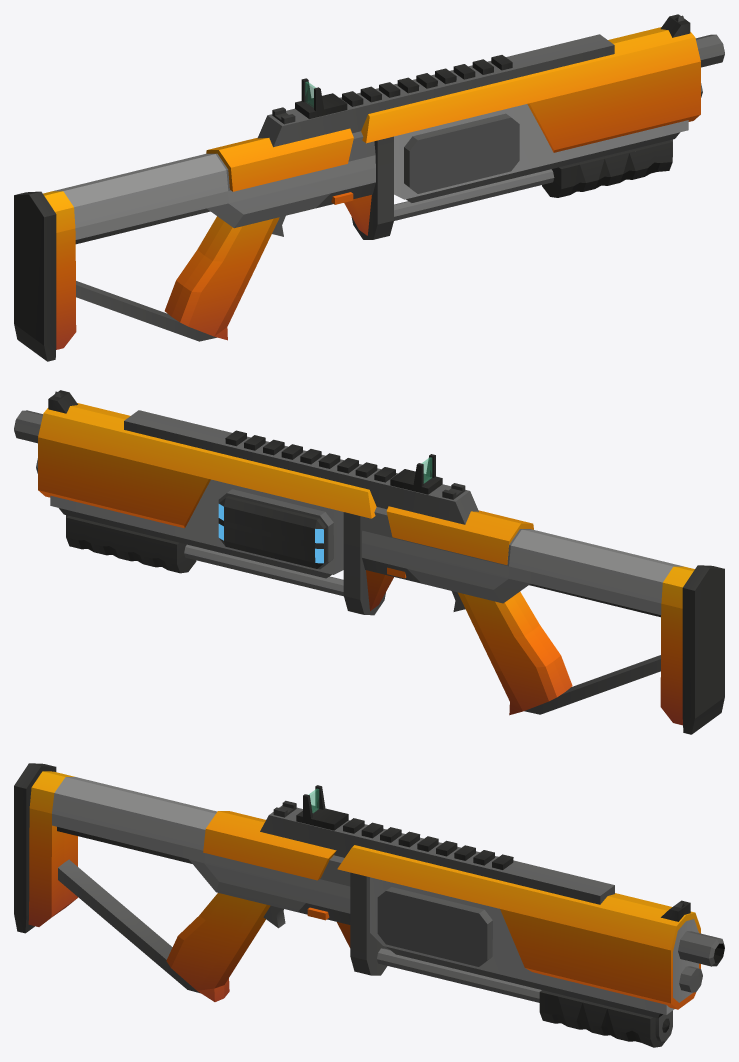
Rendered from Shotgun_mesh.fbx.
3 renders of one model, top to bottom at view 1: azimuth 30°, elevation 25°; view 2: azimuth 150°, elevation 25°; view 3: azimuth 330°, elevation 25°, orthographic.
Parts seen in each view (by area): view 1: Shotgun_mesh, Grip_mesh, ReflexA_mesh, ShotgunIronSights_mesh; view 2: Shotgun_mesh, Mag_M_mesh, Grip_mesh, ReflexA_mesh, ShotgunIronSights_mesh; view 3: Shotgun_mesh, Grip_mesh, ReflexA_mesh, ShotgunIronSights_mesh.
Part boxes in pixels (x1=…): Shotgun_mesh: x1=14, y1=27, x2=724, y2=361; Grip_mesh: x1=542, y1=140, x2=672, y2=197; ReflexA_mesh: x1=295, y1=78, x2=347, y2=118; ShotgunIronSights_mesh: x1=272, y1=14, x2=690, y2=124; Shotgun_mesh: x1=14, y1=403, x2=724, y2=734; Mag_M_mesh: x1=218, y1=496, x2=326, y2=568; Grip_mesh: x1=66, y1=516, x2=196, y2=573; ReflexA_mesh: x1=390, y1=454, x2=442, y2=494; ShotgunIronSights_mesh: x1=48, y1=390, x2=465, y2=499; Shotgun_mesh: x1=14, y1=763, x2=724, y2=1041; Grip_mesh: x1=539, y1=990, x2=665, y2=1047; ReflexA_mesh: x1=296, y1=785, x2=348, y2=830; ShotgunIronSights_mesh: x1=273, y1=800, x2=690, y2=921.
Bounding box in the file's own units: 80.02 × 25.44 × 7.53.
3 materials, 1 textured.
